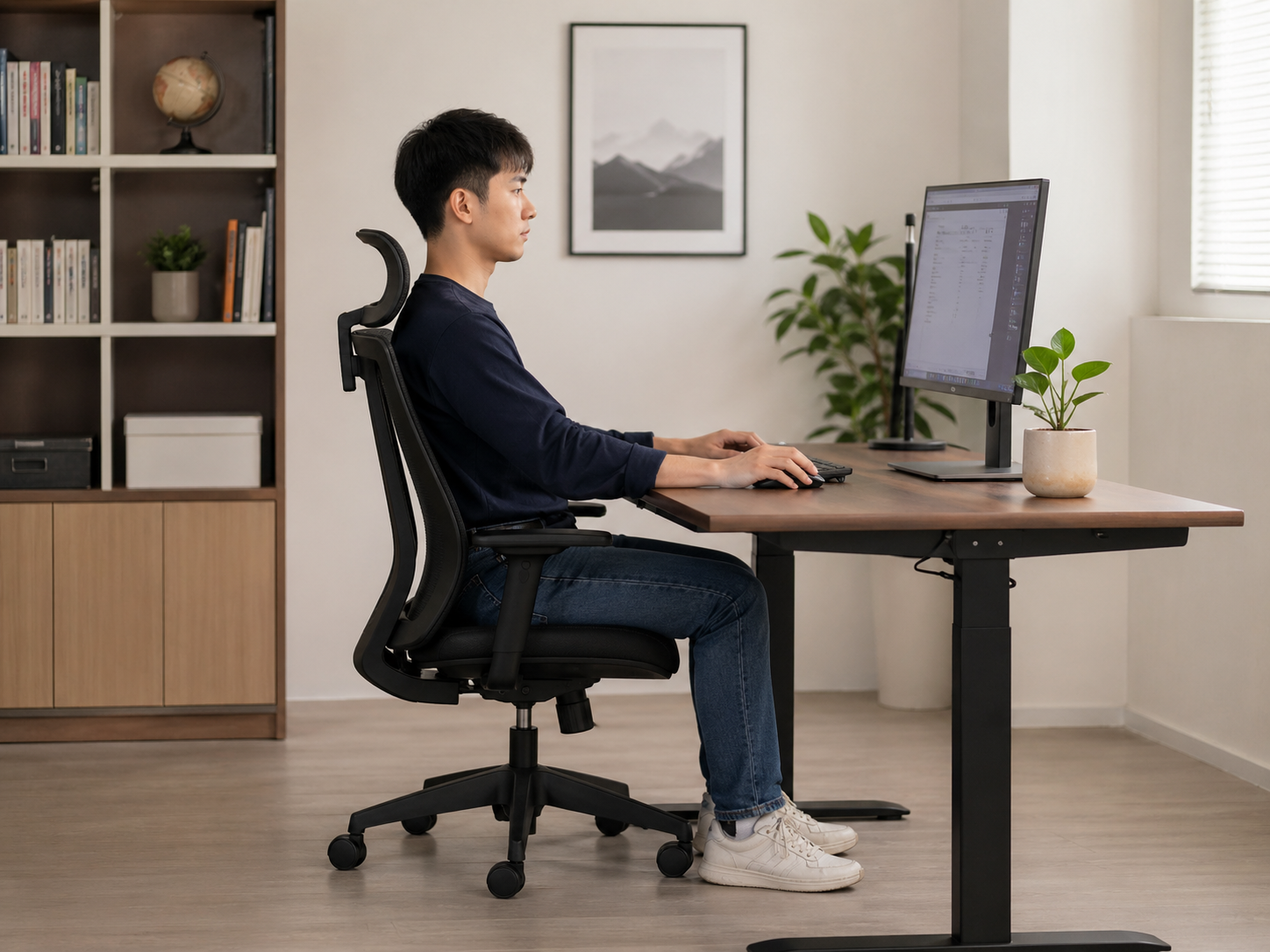sitting_good: (360, 91, 850, 907)
